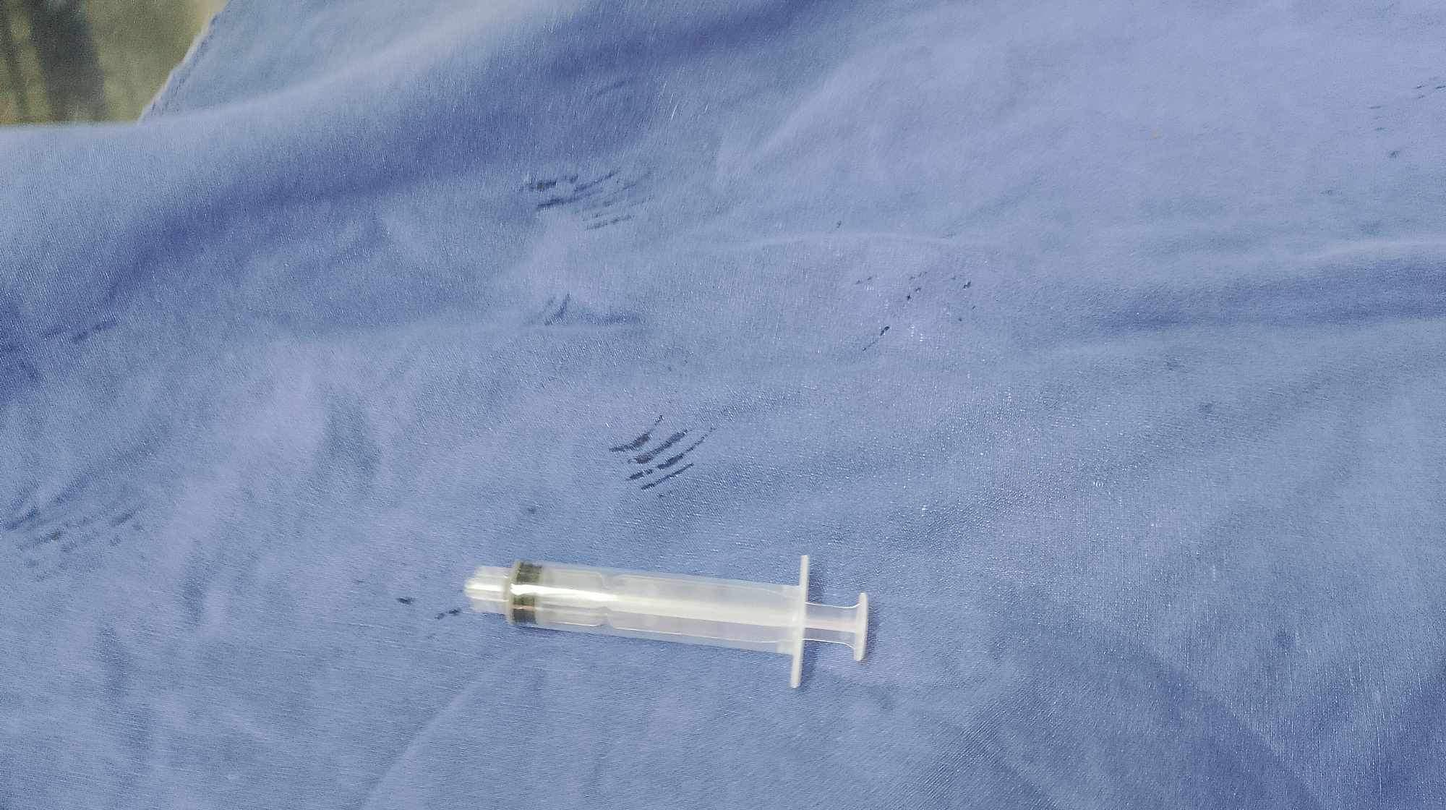Pathological: (4, 3, 1439, 805)
Sharps: (462, 553, 870, 689)
